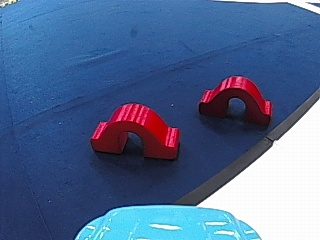bridge: (87, 98, 181, 157), (196, 72, 276, 125)
